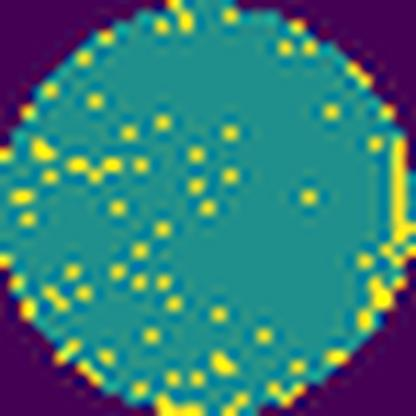Scratch: (376, 135, 416, 268)
